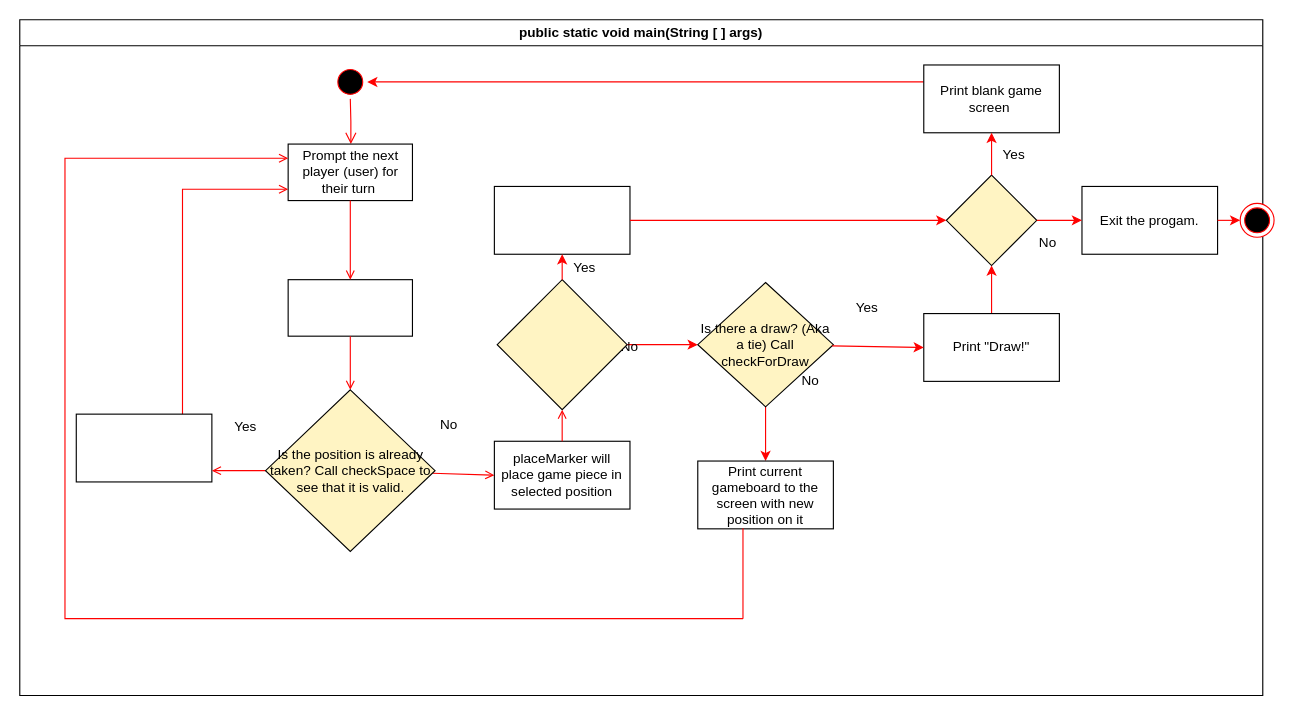
Image size: 1294x715. Some labels were removed from this diagram. Here are the shapes that lost their labels. From the top down, the centre of each, then its label:
[561,219]: Print "Congratulations to winner!"
[991,220]: Does user want to play again?
[349,307]: Read in user input (position they choose)
[561,344]: Is there a winner? Call checkForWinner
[143,447]: Print error message that the position is taken
